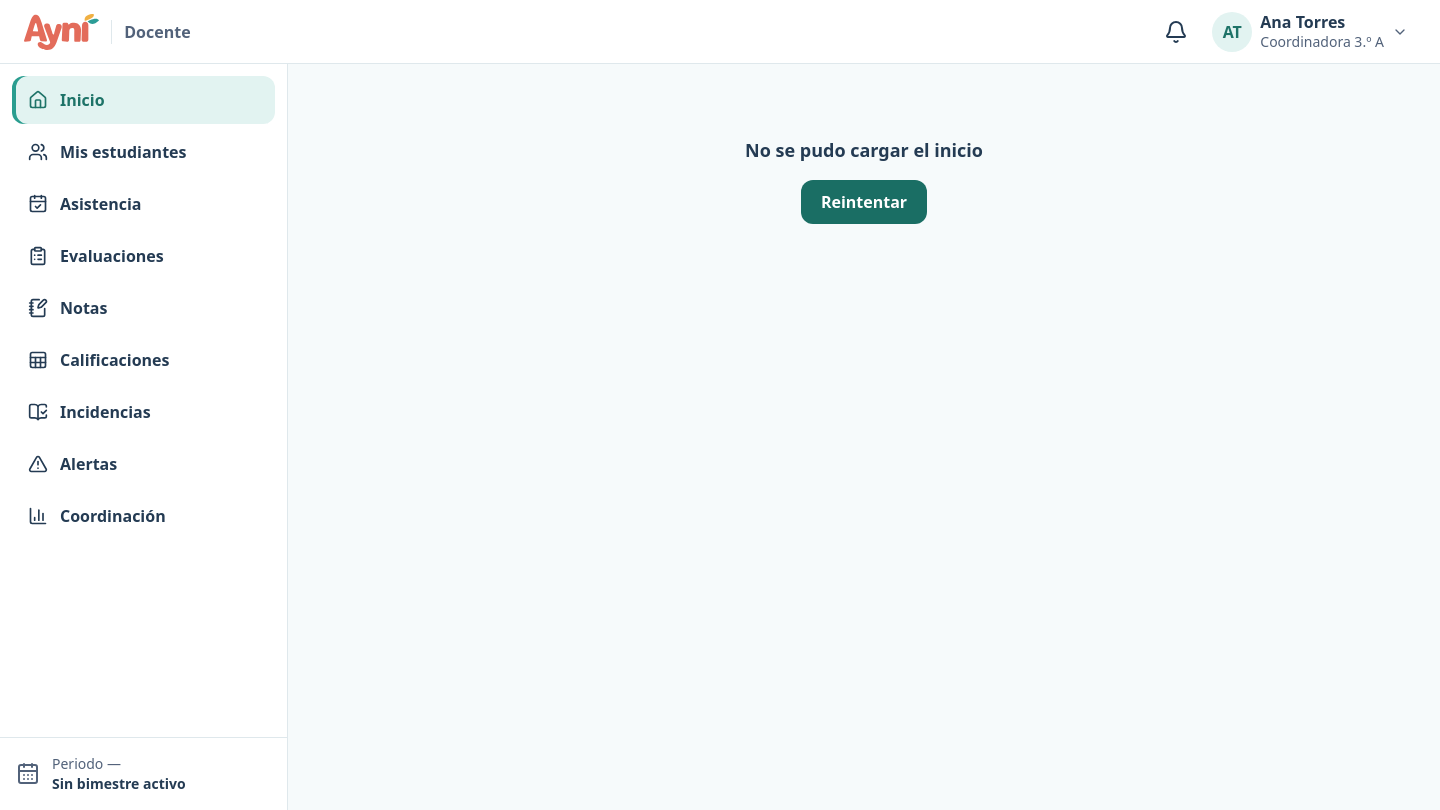
Test case: Campana (RF-51) › sin pendientes no muestra contador
Click the button named "Notificaciones" at {"x": 1176, "y": 32}, box [1156,12,1196,52]
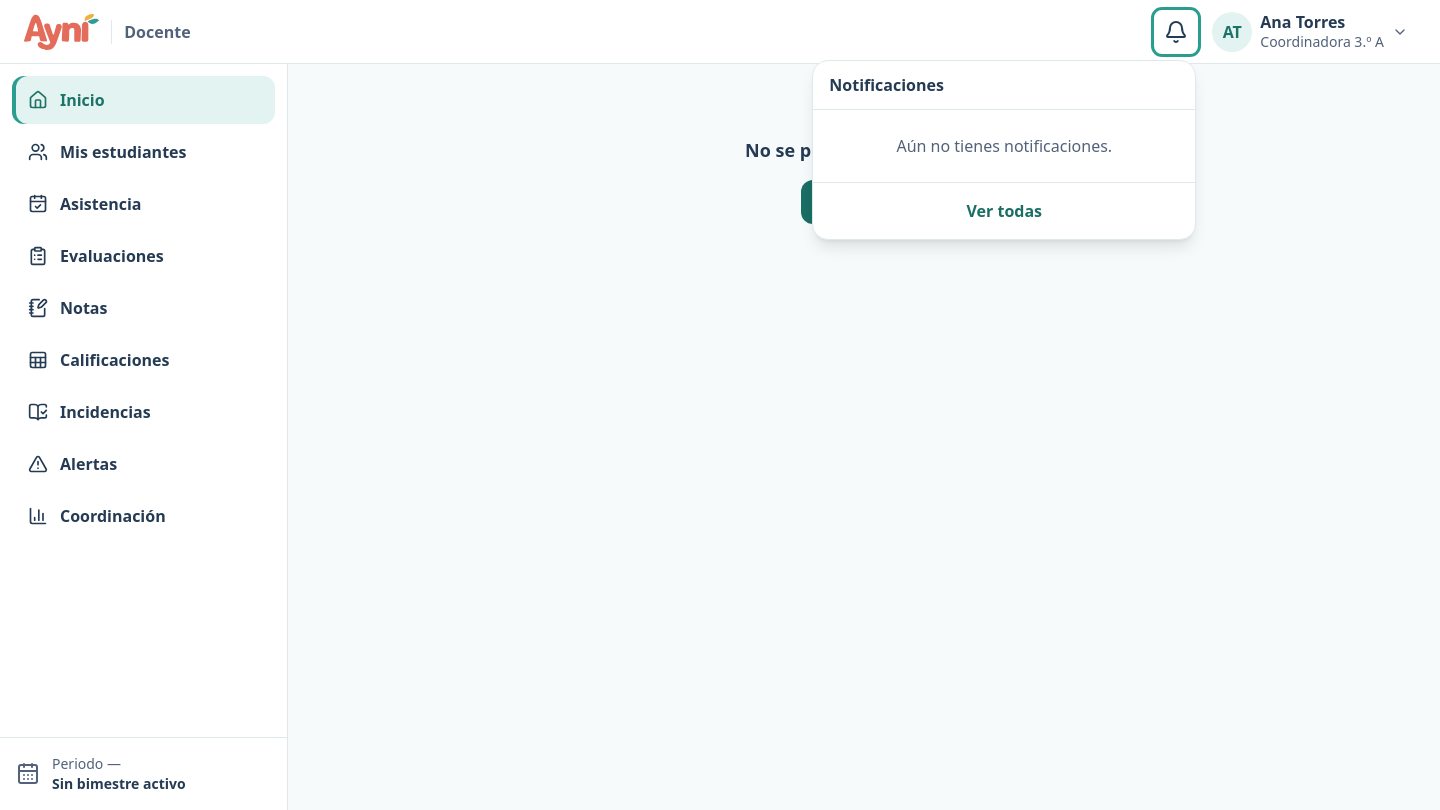
Expected: the text "Aún no tienes notificaciones." is shown, [896,134,1112,156]
